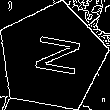N_W: (23, 33, 80, 82)
